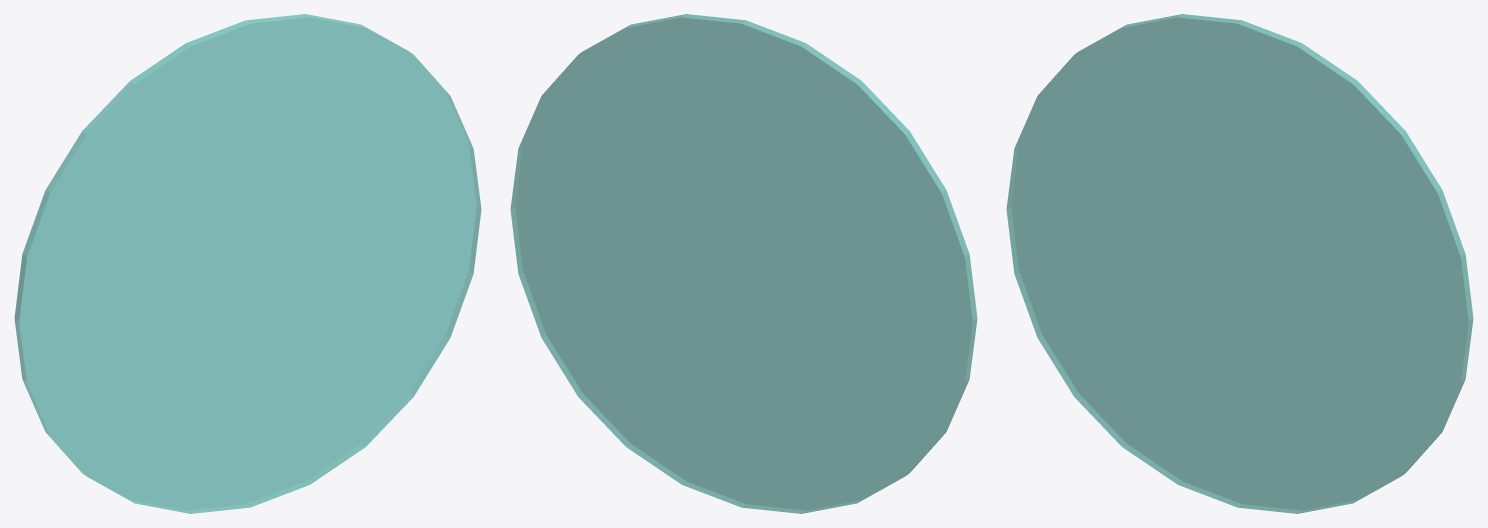
The model's file is pane_rose.fbx.
3 renders of one model, left to right at view 1: azimuth 30°, elevation 25°; view 2: azimuth 150°, elevation 25°; view 3: azimuth 330°, elevation 25°, orthographic.
Parts seen in each view (by area): view 1: pane_rose; view 2: pane_rose; view 3: pane_rose.
Part boxes in pixels (x1,y1,x2,y2): pane_rose: (14, 14, 481, 513); pane_rose: (510, 14, 977, 513); pane_rose: (1006, 14, 1473, 513).
Size of the model in its own units: 1140 by 1140 by 20.
